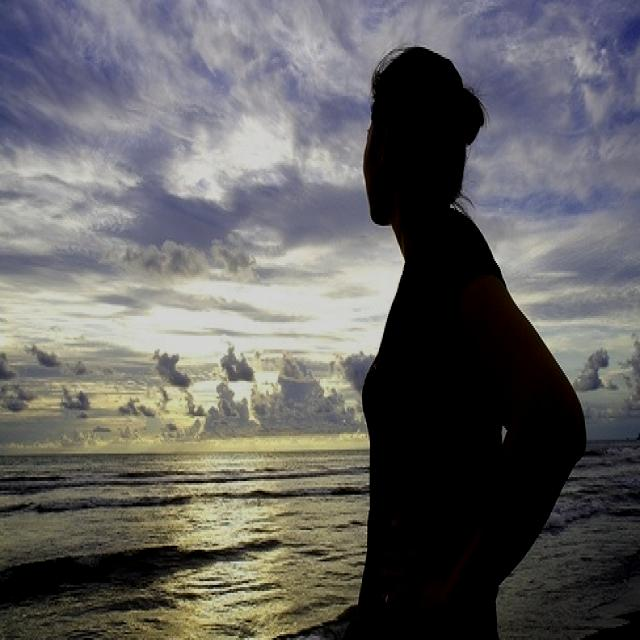piel: (376, 279, 590, 640), (363, 114, 449, 254)
